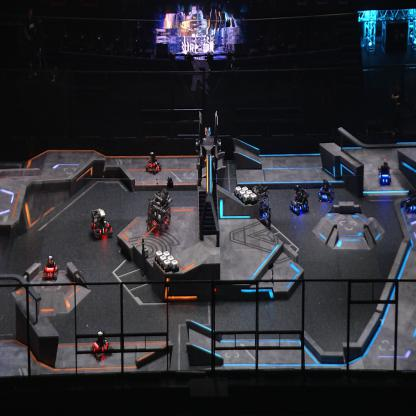car: (146, 190, 172, 236), (250, 185, 272, 226), (90, 207, 113, 240), (91, 330, 113, 361), (289, 184, 310, 215), (317, 178, 335, 203), (42, 255, 59, 281), (146, 151, 162, 174), (378, 161, 392, 186), (403, 186, 415, 215)
